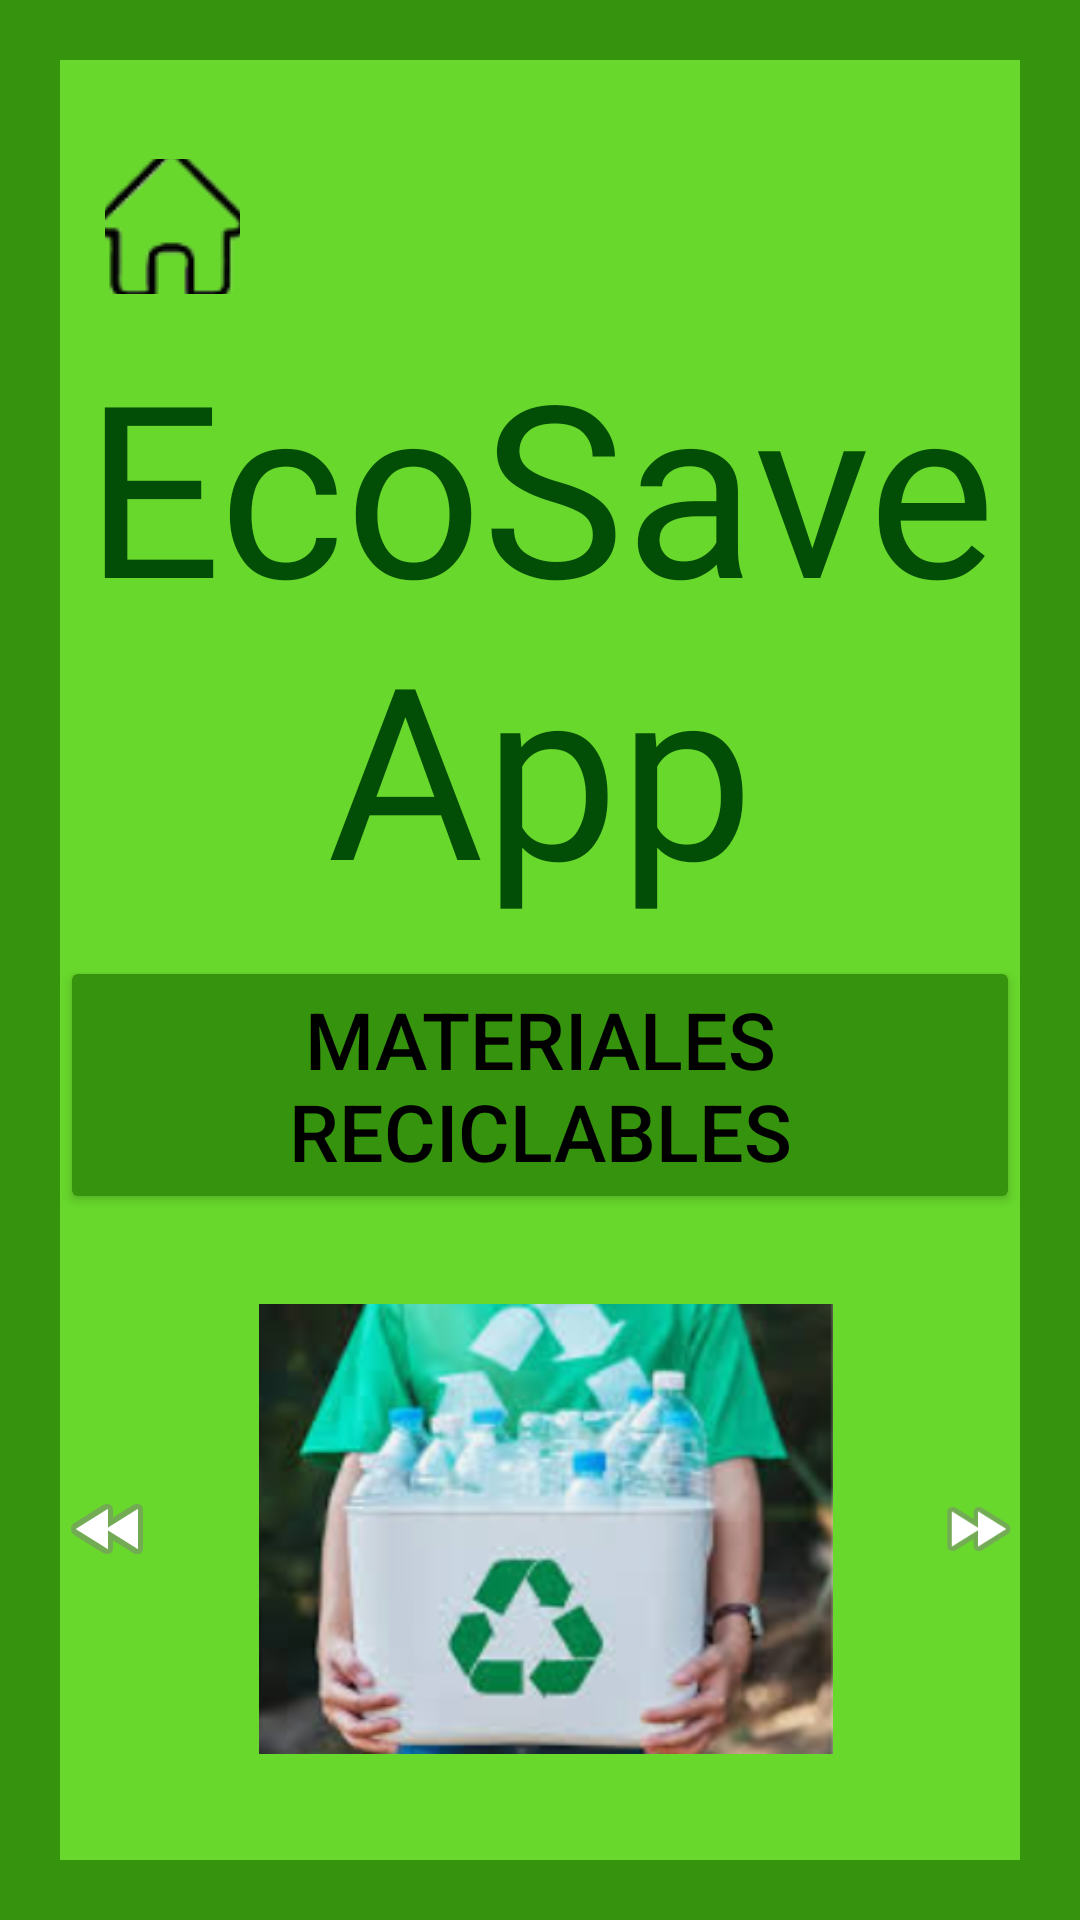

Where icons sit on this 1080 x 1920 app screen, as (x1, y1, x2, y2):
casa: (105, 159, 240, 294)
rew: (71, 1504, 143, 1554)
